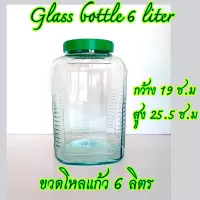glass_bottle: (50, 37, 127, 166)
